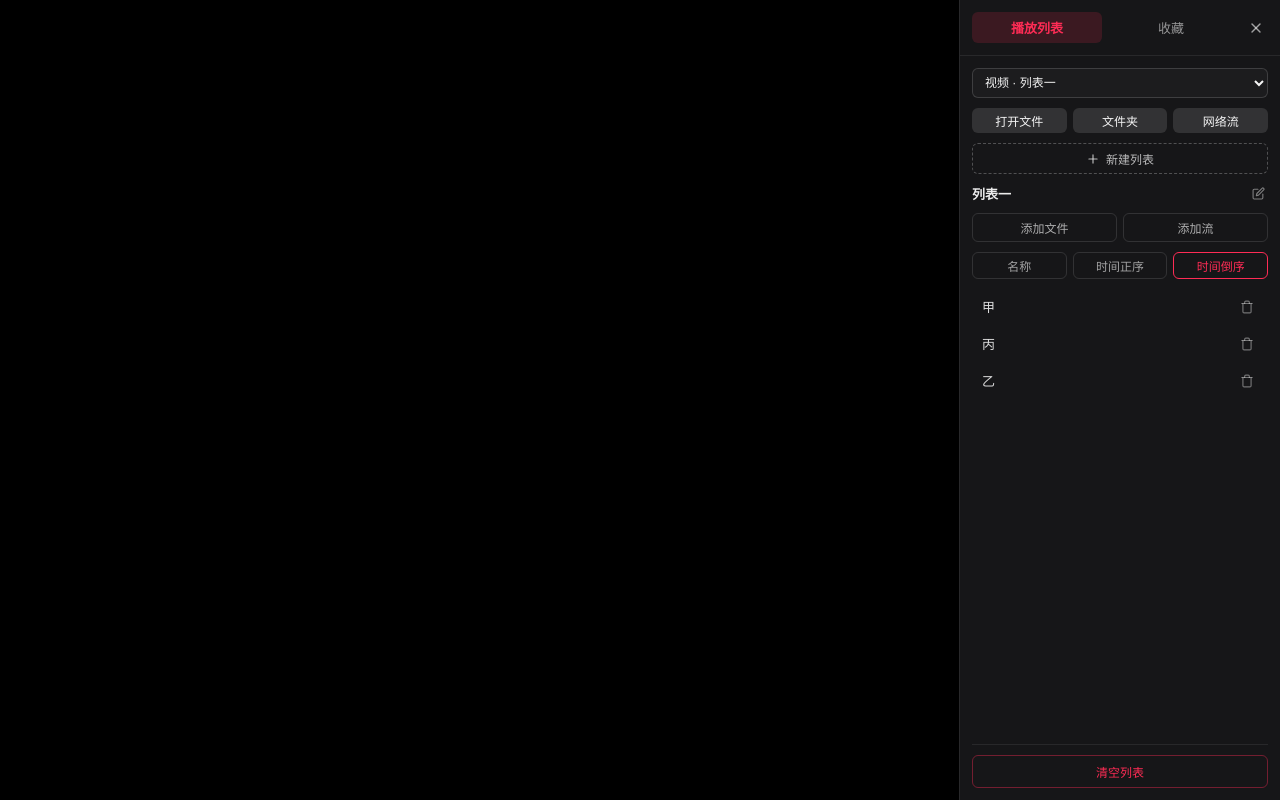
Test: SidePanel › tab 切换收藏并记忆（重渲染保持）
This screenshot has width=1280, height=800.
Click the button "收藏".
click(1171, 28)  # box [1106, 12, 1236, 43]
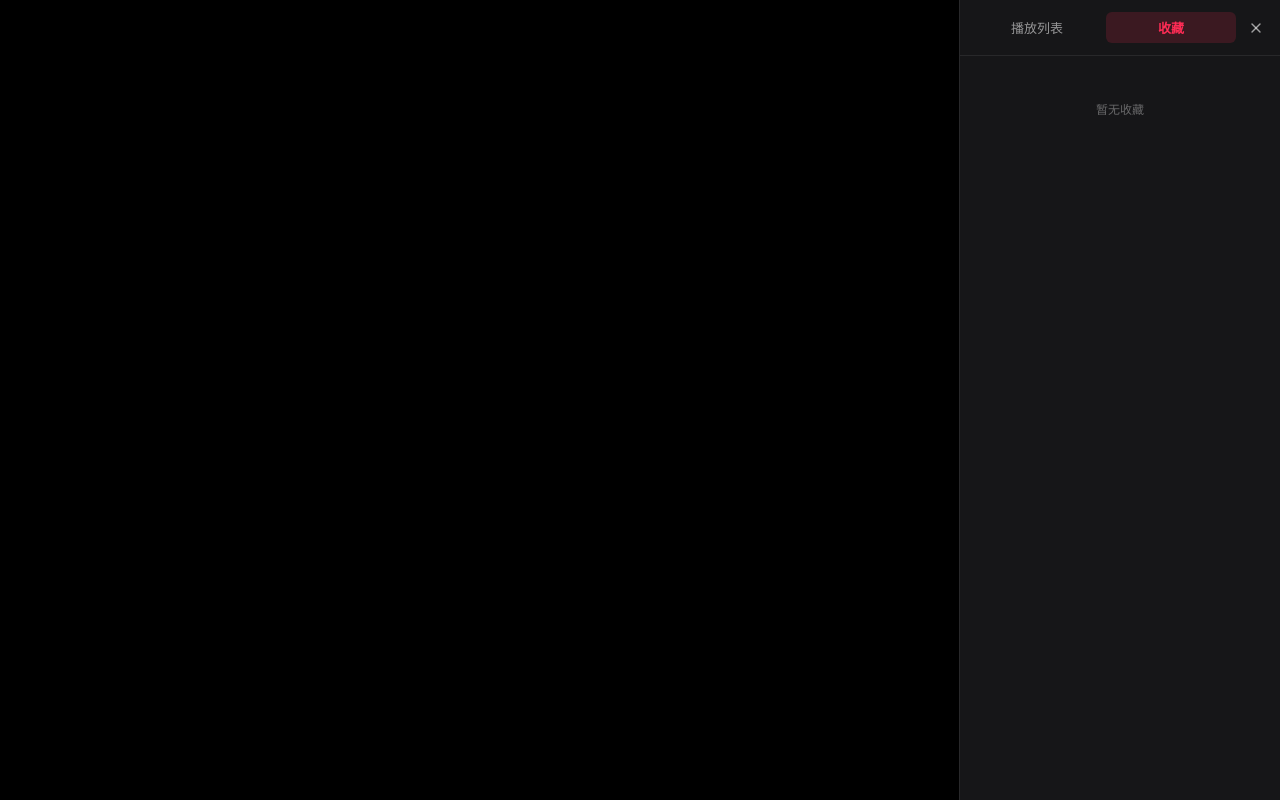
Now the text "暂无收藏" is shown, box [1096, 101, 1144, 118]
